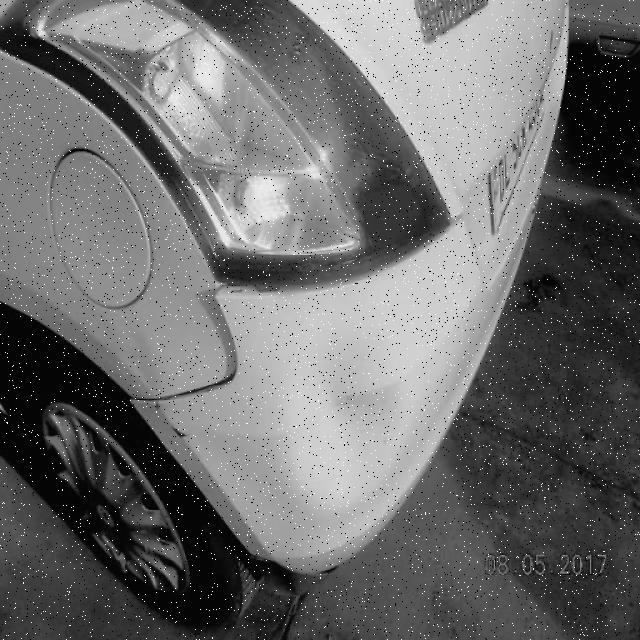car damage: (283, 309, 419, 510), (133, 287, 243, 413), (150, 396, 195, 442), (321, 392, 357, 418)
